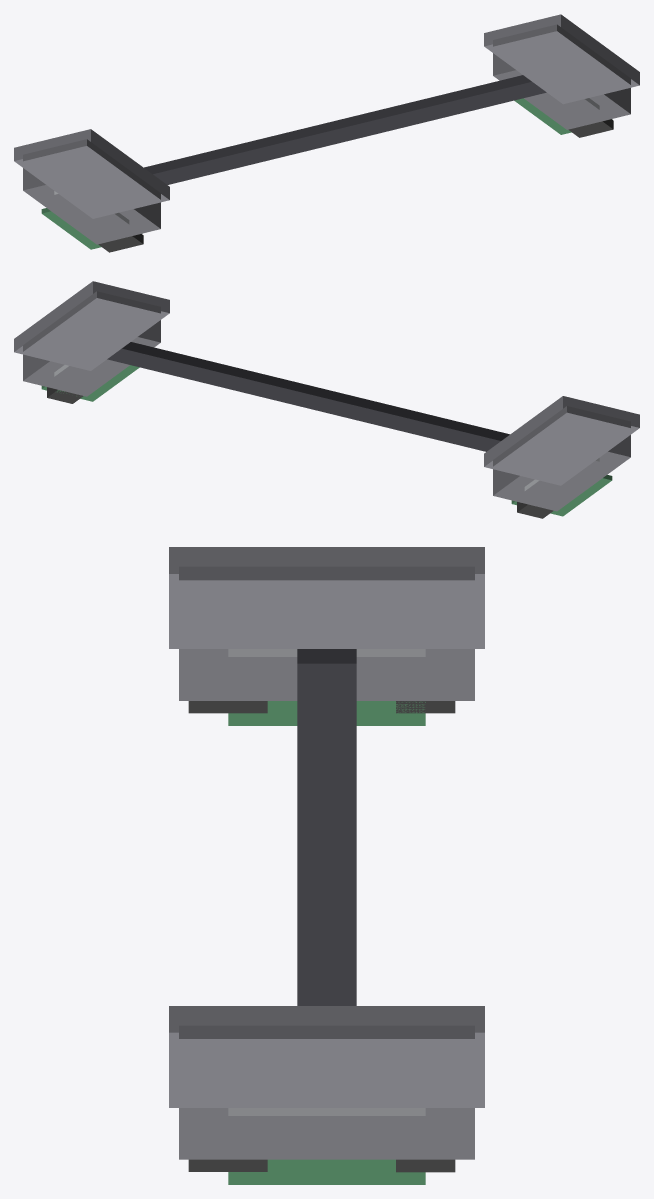
Rendered from shoulder_buttons.gltf.
3 renders of one model, top to bottom at view 1: azimuth 30°, elevation 25°; view 2: azimuth 150°, elevation 25°; view 3: azimuth 270°, elevation 25°, orthographic. The views are drawn at different scales.
Visible parts, largest first — view 1: shoulder_buttons; view 2: shoulder_buttons; view 3: shoulder_buttons.
Boxes of the visible parts, x1,y1,x2,y2 form: shoulder_buttons: (14,14,639,252); shoulder_buttons: (14,281,639,518); shoulder_buttons: (169,547,484,1184).
Bounding box in the file's own units: 0.128 × 0.013 × 0.032.
